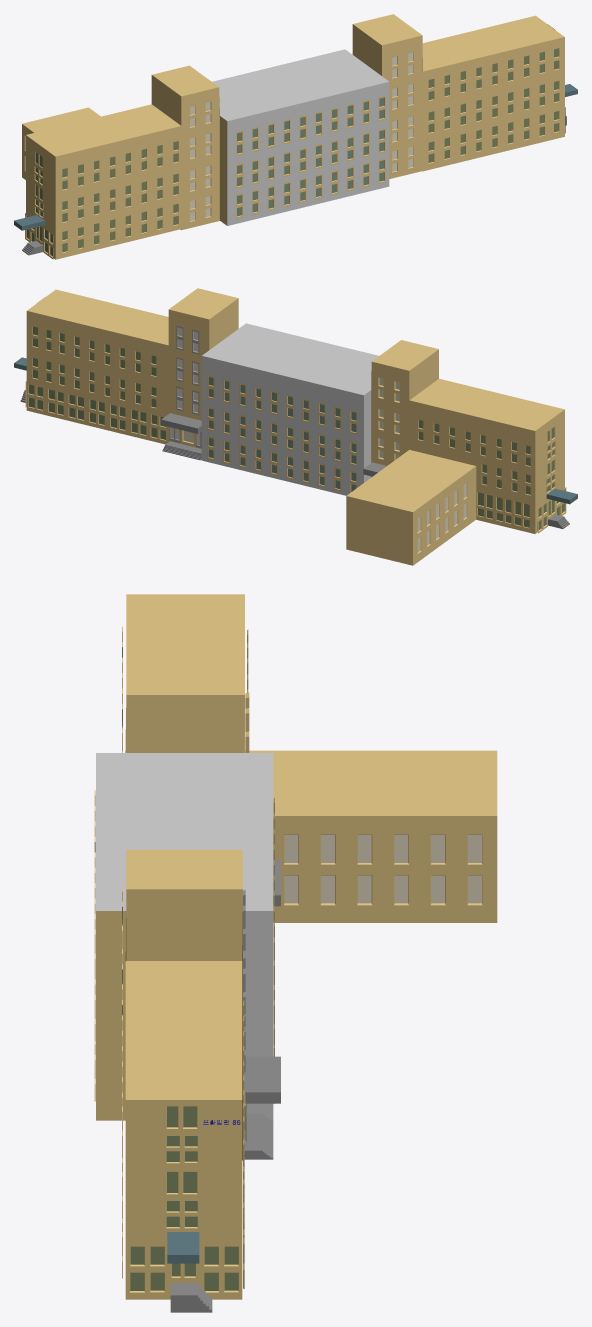
The model's file is 프라임관 모델링 최종.fbx.
The picture shows the model from 3 angles, top to bottom: view 1: azimuth 30°, elevation 25°; view 2: azimuth 150°, elevation 25°; view 3: azimuth 270°, elevation 25°; orthographic projection. The views are drawn at different scales.
Visible parts, largest first — view 1: pCube7; view 2: pCube7; view 3: pCube7.
Part boxes in pixels (left/top/right/bottom): pCube7: left=14, top=14, right=577, bottom=259; pCube7: left=14, top=288, right=577, bottom=565; pCube7: left=94, top=594, right=497, bottom=1312.
Size of the model in its own units: 105 by 24.52 by 32.92.
